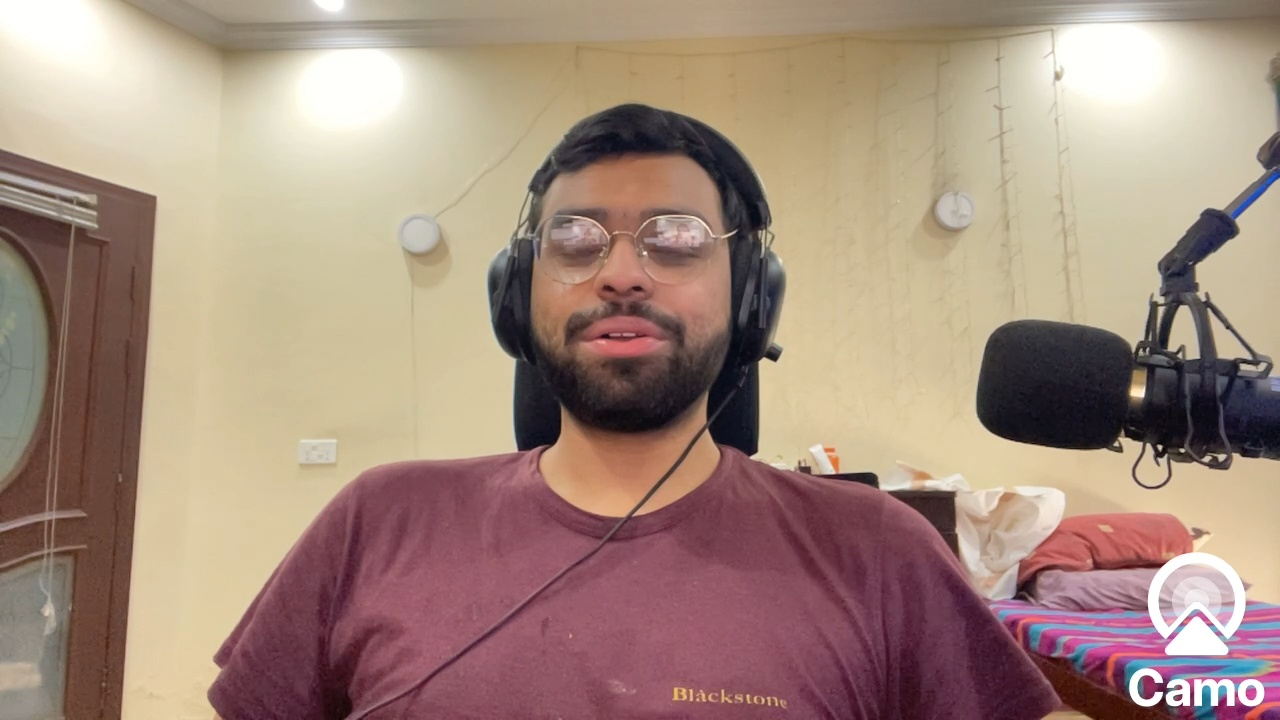surprised: (514, 156, 740, 430)
